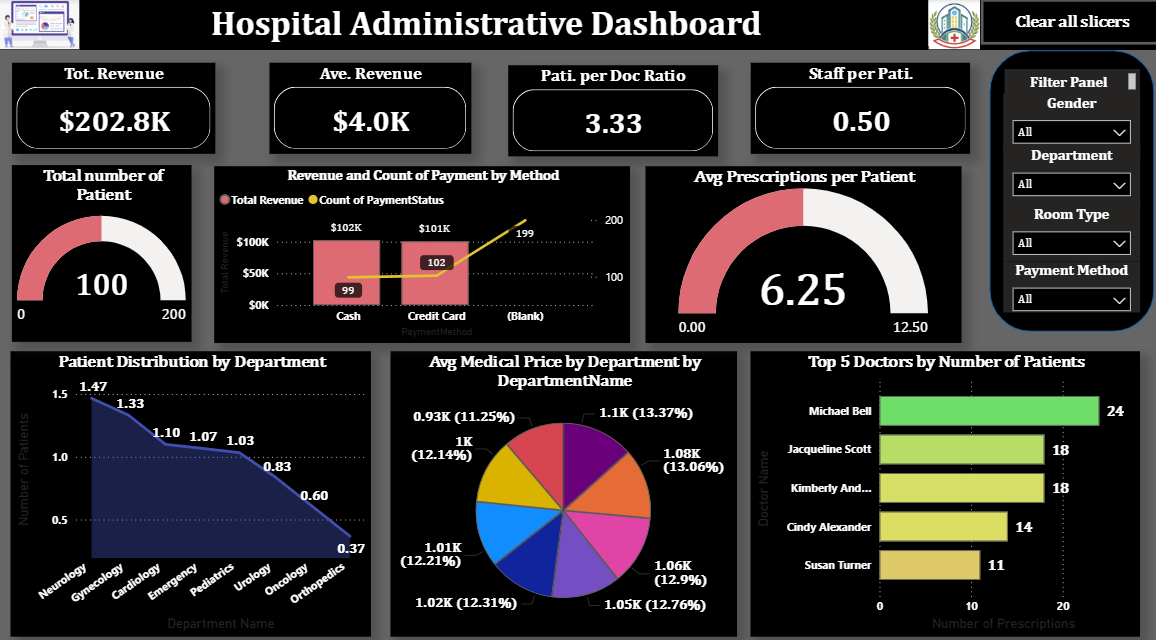

The page's visual inventory and layout, read from the dashboard file:
{"tool":"powerbi","page":{"name":"Hospital Dashboard","canvas":[1280,720],"ordinal":0},"visuals":[{"type":"pieChart","fields":{"Category":["Department.DepartmentName"],"Y":["Medicine.Avg Medical Price by Department"]},"box":[432.6,386.7,379.8,313],"z":0},{"type":"cardVisual","title":"Pati. per Doc Ratio","fields":{"Data":["Patient.Patient-Doc Ratio"]},"box":[561.5,72.2,230.6,100.3],"z":3000},{"type":"gauge","fields":{"Y":["Prescription.Avg Prescriptions per Patient"]},"box":[712.2,183.6,346.4,193.4],"z":4000},{"type":"cardVisual","title":"Tot. Revenue","fields":{"Data":["Billing.Total Revenue"]},"box":[15.8,70.4,223.6,100.3],"z":5000},{"type":"cardVisual","title":"Staff per Pati.","fields":{"Data":["Staff.Staff per Patient"]},"box":[827.4,70.4,241.2,100.3],"z":6000},{"type":"cardVisual","title":"Ave. Revenue","fields":{"Data":["Billing.Avg Revenue per Patient"]},"box":[299.3,70.4,221.8,100.3],"z":7000},{"type":"lineStackedColumnComboChart","title":"Revenue and Count of Payment by Method","fields":{"Category":["Billing.PaymentMethod"],"Y2":["CountNonNull(Billing.PaymentStatus)"],"Y":["Billing.Total Revenue"]},"box":[239.3,183.6,456.3,193.4],"z":8000},{"type":"textbox","box":[0,0,1279.8,55.6],"z":10000},{"type":"barChart","title":"Top 5 Doctors by Number of Patients","fields":{"Category":["Doctor.DoctorName"],"Y":["Patient.Total Patient"]},"box":[827.7,386.7,427.1,313],"z":11000},{"type":"areaChart","title":"Patient Distribution by Department","fields":{"Category":["Department.DepartmentName"],"Y":["Patient.Patient-Doc Ratio"]},"box":[15.3,386.7,395.1,313],"z":12000},{"type":"shape","box":[1089.2,55.6,180.8,308.8],"z":13000},{"type":"textbox","box":[1105.9,76.5,148.8,27.8],"z":14000},{"type":"slicer","title":"Gender","fields":{"Values":["Patient.Gender"]},"box":[1104.5,104.3,150.2,66.8],"z":15000},{"type":"slicer","title":"Department","fields":{"Values":["Department.DepartmentName"]},"box":[1104.5,161.4,150.2,65.4],"z":16000},{"type":"slicer","title":"Room Type","fields":{"Values":["Room.RoomType"]},"box":[1104.5,226.7,150.2,61.2],"z":17000},{"type":"slicer","title":"Payment Method","fields":{"Values":["Billing.PaymentMethod"]},"box":[1104.5,288,150.2,55.6],"z":18000},{"type":"actionButton","box":[1079.5,0,200.3,50.1],"z":19000},{"type":"image","box":[0,0,90.1,55.6],"z":20000},{"type":"image","box":[1022.5,0,57,55.6],"z":21000},{"type":"gauge","title":"Total number of Patient","fields":{"Y":["Patient.Total Patient"]},"box":[15.8,183.1,197.2,193.6],"z":21002}]}

Visuals, with their boxes in screenshot pixels (x1, y1, x2, y2), scaled from the page's 1280x720 canvas onto the 1156x640 screenshot:
pieChart - Department.DepartmentName x Medicine.Avg Medical Price by Department: box(391, 344, 734, 622)
"Pati. per Doc Ratio" cardVisual: box(507, 64, 715, 153)
gauge - Prescription.Avg Prescriptions per Patient: box(643, 163, 956, 335)
"Tot. Revenue" cardVisual: box(14, 63, 216, 152)
"Staff per Pati." cardVisual: box(747, 63, 965, 152)
"Ave. Revenue" cardVisual: box(270, 63, 471, 152)
"Revenue and Count of Payment by Method" lineStackedColumnComboChart: box(216, 163, 628, 335)
textbox: box(0, 0, 1155, 49)
"Top 5 Doctors by Number of Patients" barChart: box(748, 344, 1133, 622)
"Patient Distribution by Department" areaChart: box(14, 344, 371, 622)
shape: box(984, 49, 1147, 324)
textbox: box(999, 68, 1133, 93)
"Gender" slicer: box(998, 93, 1133, 152)
"Department" slicer: box(998, 143, 1133, 202)
"Room Type" slicer: box(998, 202, 1133, 256)
"Payment Method" slicer: box(998, 256, 1133, 305)
actionButton: box(975, 0, 1155, 45)
image: box(0, 0, 81, 49)
image: box(923, 0, 975, 49)
"Total number of Patient" gauge: box(14, 163, 192, 335)
